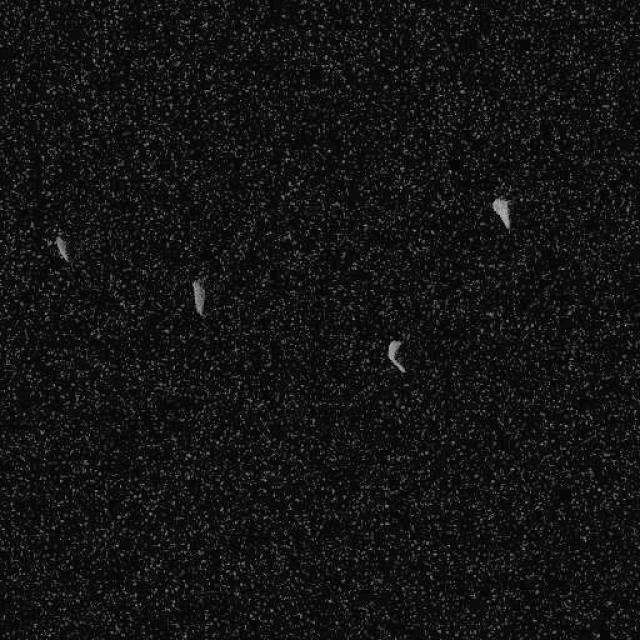D2: (490, 195, 511, 230), (386, 338, 406, 373), (192, 278, 206, 316), (52, 234, 70, 262)
